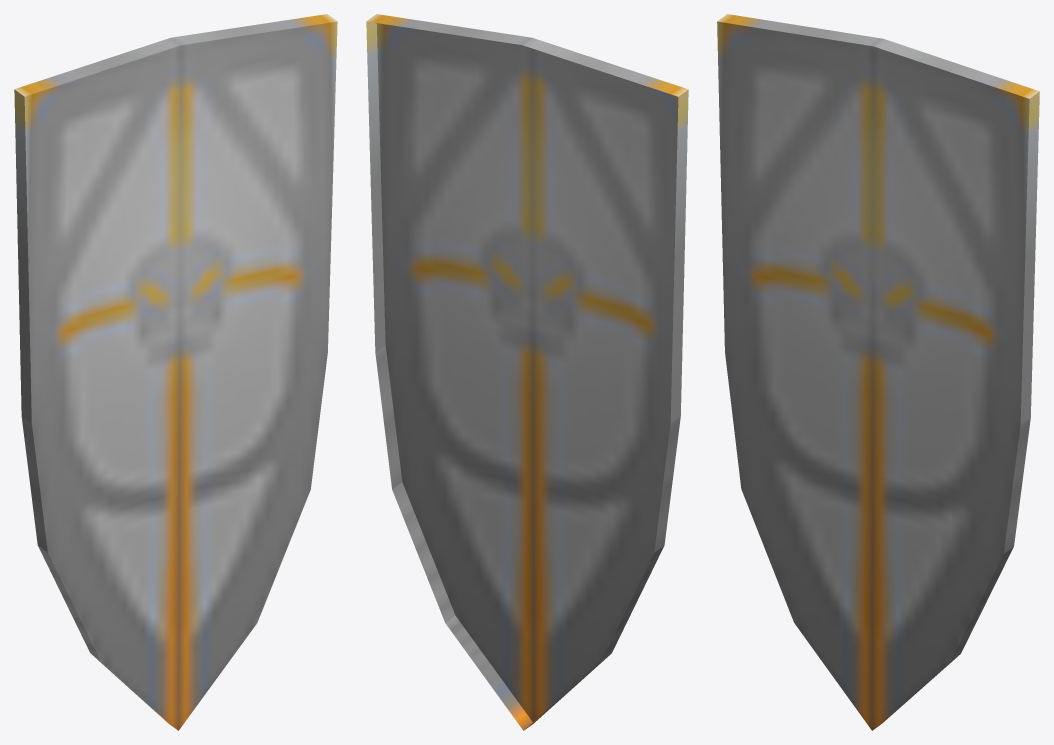
File: building_Armor_shield02.FBX
3 views of the same model, side by side, from view 1: azimuth 30°, elevation 25°; view 2: azimuth 150°, elevation 25°; view 3: azimuth 330°, elevation 25° (orthographic).
Visible parts, largest first — view 1: building_Armor_shield02; view 2: building_Armor_shield02; view 3: building_Armor_shield02.
Boxes of the visible parts, left/top/right/bottom form: building_Armor_shield02: left=14, top=14, right=337, bottom=730; building_Armor_shield02: left=366, top=14, right=688, bottom=730; building_Armor_shield02: left=717, top=14, right=1039, bottom=730.
Size of the model in its own units: 48.82 by 102 by 2.97.
